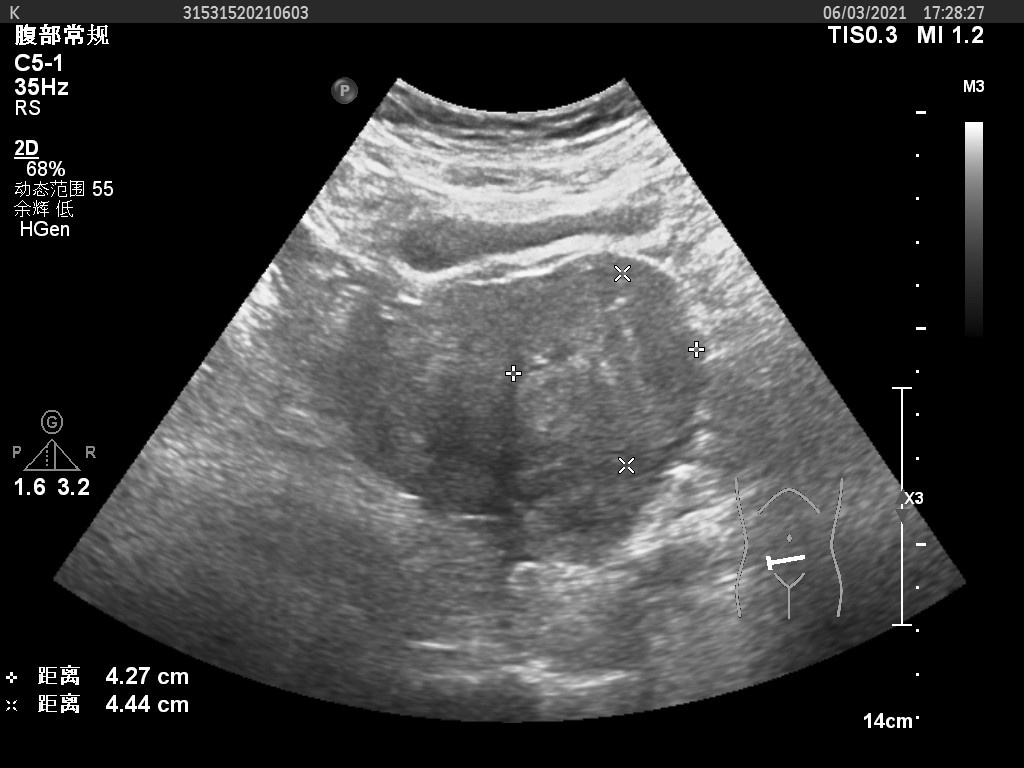肌瘤: (520, 293, 683, 453)
